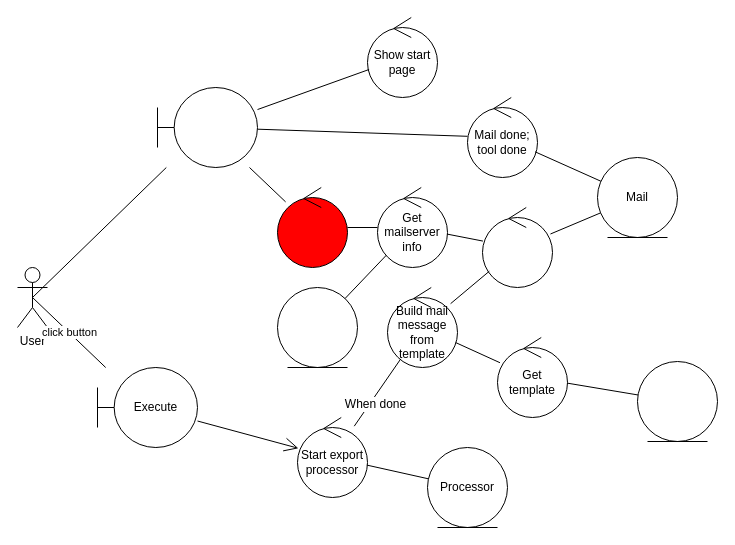
The diagram is 735 pixels wide and 545 high, and some of its shapes have lost their labels. The shapes that lost their labels are listed below. From the top down, each one's box as (x1, y1, x2, y2) in pixels, then its label:
(156, 86, 258, 168): Start page
(276, 186, 348, 268): mail server error
(482, 206, 552, 288): Send mail
(276, 286, 358, 368): Properties
(636, 360, 718, 442): Storage
